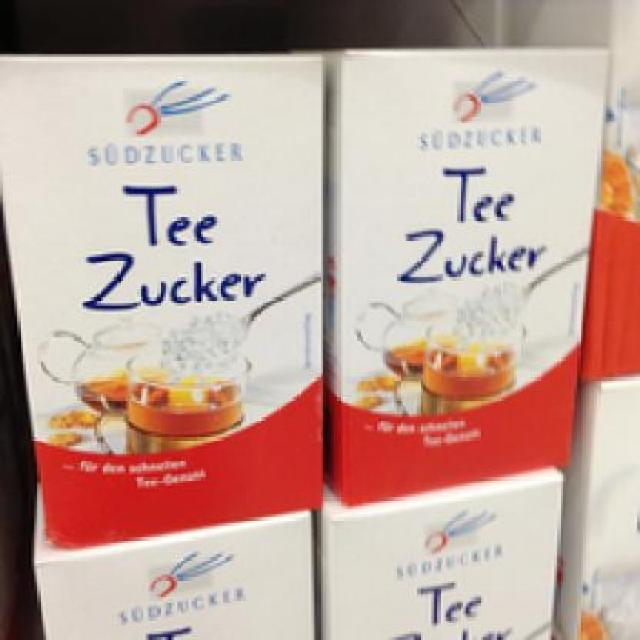Sugar: (0, 51, 320, 548), (326, 37, 606, 506)
